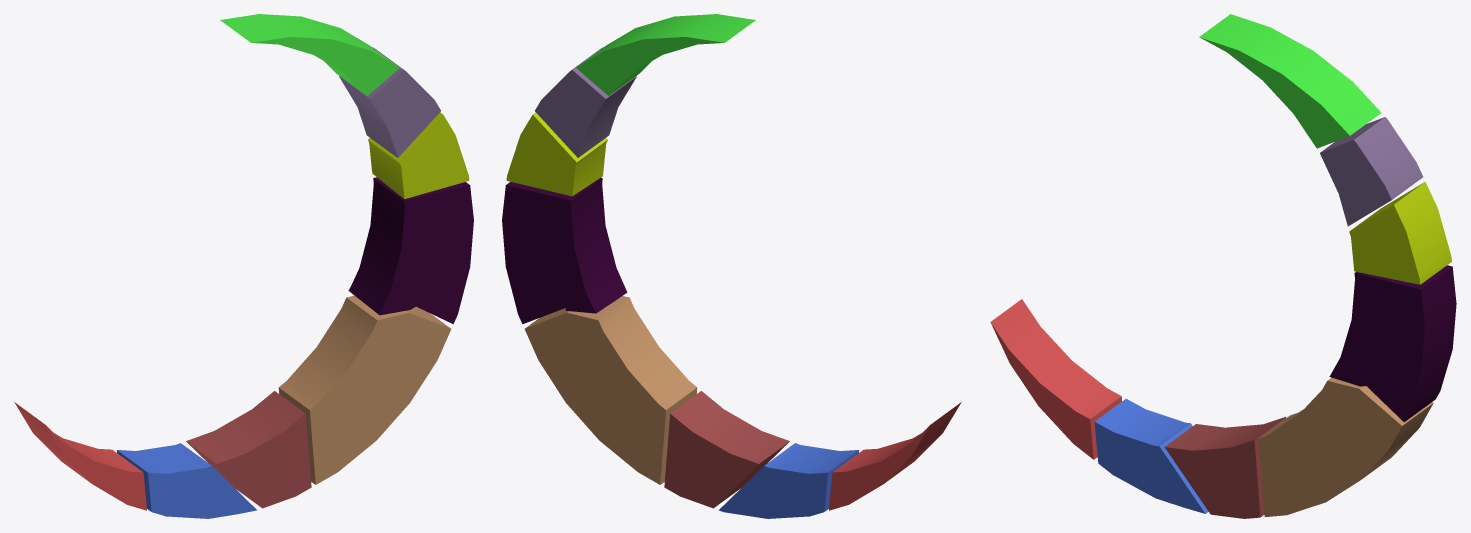
Rendered from Story_Monument_Screen.FBX.
The picture shows the model from 3 angles, left to right: view 1: azimuth 30°, elevation 25°; view 2: azimuth 150°, elevation 25°; view 3: azimuth 330°, elevation 25°; orthographic projection.
Visible parts, largest first — view 1: Object008, Object009, Object007, Object006, Object012, Object010, Object011, Object005; view 2: Object008, Object009, Object007, Object006, Object012, Object010, Object011, Object005; view 3: Object008, Object009, Object012, Object005, Object007, Object010, Object006, Object011.
Boxes of the visible parts, x1,y1,x2,y2 form: Object008: (278,295,451,484); Object009: (348,177,473,324); Object007: (186,391,311,508); Object006: (116,443,256,518); Object012: (220,14,399,95); Object010: (368,112,469,198); Object011: (339,47,440,157); Object005: (14,402,146,510); Object008: (524,296,697,484); Object009: (502,177,627,324); Object007: (664,391,789,508); Object006: (719,443,859,518); Object012: (576,14,755,95); Object010: (506,112,607,196); Object011: (535,47,636,157); Object005: (829,402,961,510); Object008: (1258,377,1433,516); Object009: (1329,265,1456,422); Object012: (1199,14,1381,148); Object005: (990,299,1122,459); Object007: (1164,417,1286,518); Object010: (1349,181,1451,284); Object006: (1094,398,1208,513); Object011: (1320,117,1423,226).
Size of the model in its own units: 71.91 by 75.26 by 9.11.
